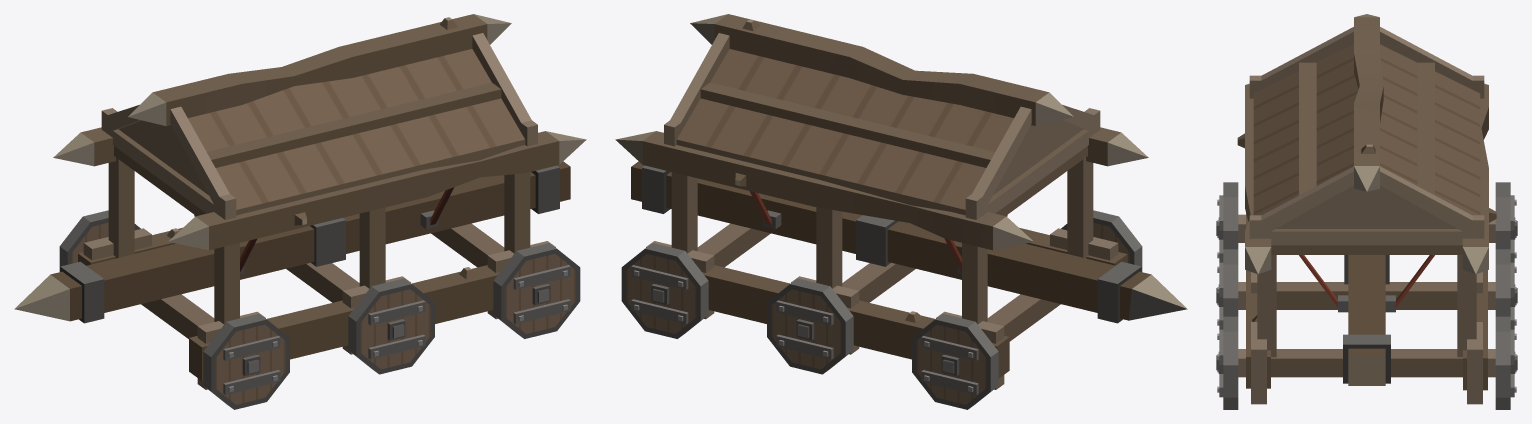
The model's file is Model_Horde_3x2B.fbx.
The picture shows the model from 3 angles, left to right: view 1: azimuth 30°, elevation 25°; view 2: azimuth 150°, elevation 25°; view 3: azimuth 270°, elevation 25°; orthographic projection. The views are drawn at different scales.
Visible parts, largest first — view 1: Model_Frost_3x2B; view 2: Model_Frost_3x2B; view 3: Model_Frost_3x2B.
Part boxes in pixels (x1=…): Model_Frost_3x2B: x1=14, y1=14, x2=586, y2=409; Model_Frost_3x2B: x1=615, y1=14, x2=1187, y2=409; Model_Frost_3x2B: x1=1216, y1=14, x2=1517, y2=409.
Bounding box in the file's own units: 612 × 282 × 308.
Materials: 1 (1 with a texture image).
